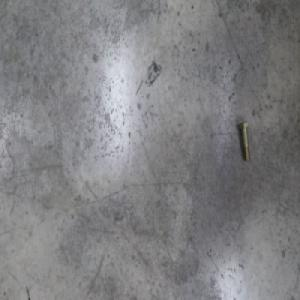Bolt: (238, 119, 251, 161)
